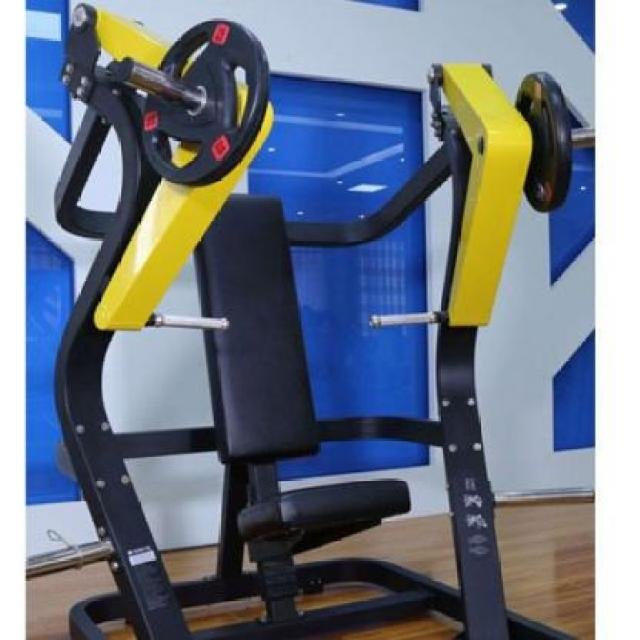Chest Press machine: (43, 1, 594, 640)
